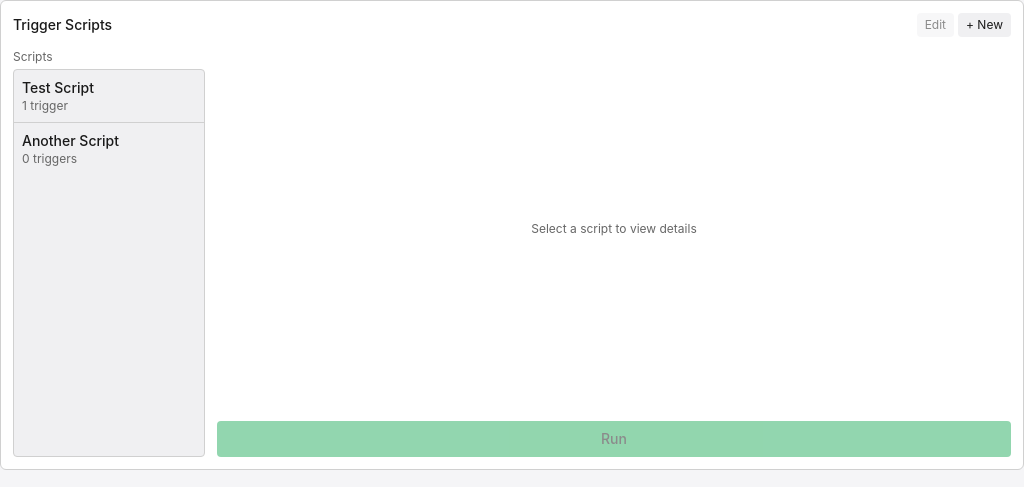
TriggerScriptPanel › Run Mode › should select script when clicked
Click the text "Test Script": [58, 88] box [22,79,94,96]
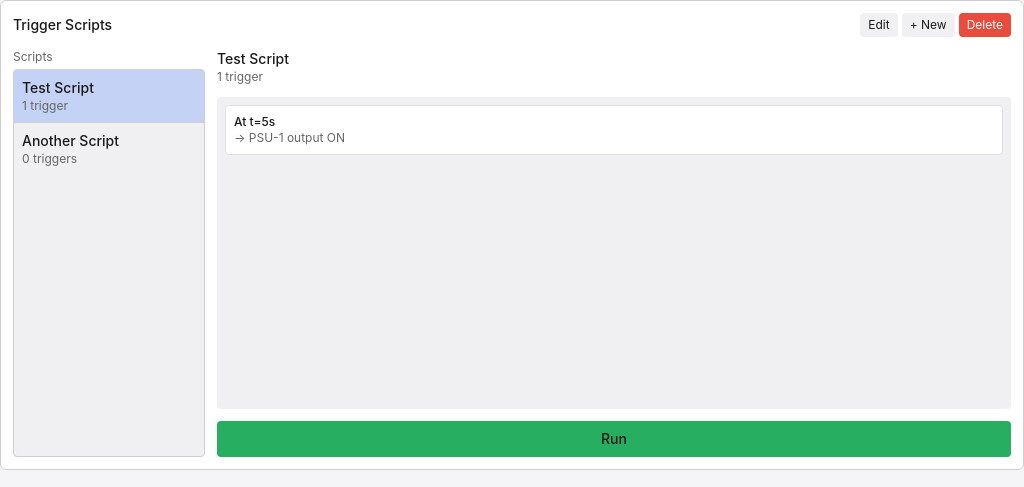
Check: the text "At t=5s" is shown, box [234,114,275,129]
